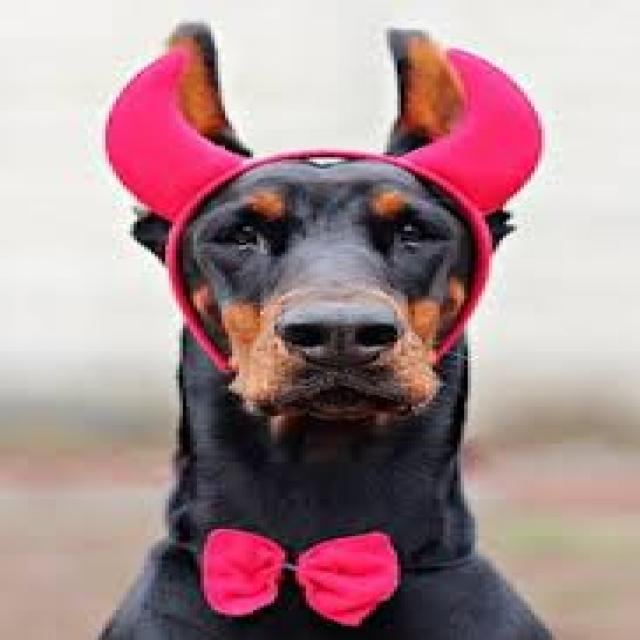Dog: (100, 17, 558, 640)
